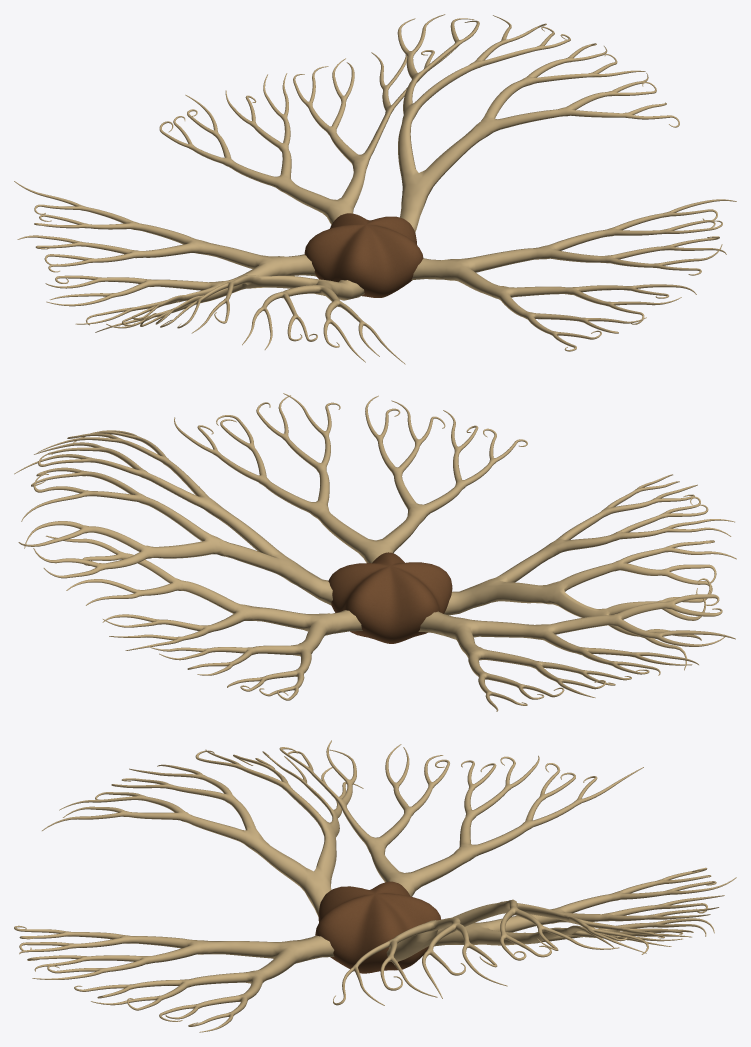
Rendered from NEW695_BasketStar_LOD1.glb.
The picture shows the model from 3 angles, top to bottom: view 1: azimuth 30°, elevation 25°; view 2: azimuth 150°, elevation 25°; view 3: azimuth 270°, elevation 25°; orthographic projection. The views are drawn at different scales.
Visible parts, largest first — view 1: Basket_star_connected_five_primary_arms, Volumetric_central_disc_with_five_radial_shoulders; view 2: Basket_star_connected_five_primary_arms, Volumetric_central_disc_with_five_radial_shoulders; view 3: Basket_star_connected_five_primary_arms, Volumetric_central_disc_with_five_radial_shoulders.
Boxes of the visible parts, bbox=[...] form: Basket_star_connected_five_primary_arms: bbox=[14, 14, 736, 364]; Volumetric_central_disc_with_five_radial_shoulders: bbox=[304, 213, 423, 297]; Basket_star_connected_five_primary_arms: bbox=[14, 393, 736, 711]; Volumetric_central_disc_with_five_radial_shoulders: bbox=[328, 552, 452, 643]; Basket_star_connected_five_primary_arms: bbox=[14, 740, 736, 1032]; Volumetric_central_disc_with_five_radial_shoulders: bbox=[315, 881, 441, 973].
Size of the model in its own units: 0.3 by 0.0679 by 0.2813.
Materials: 1 (1 with a texture image).
